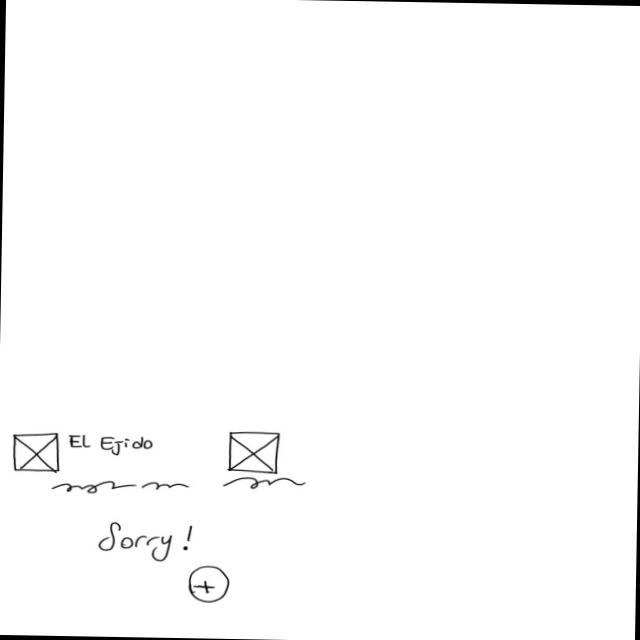icon-button: (187, 564, 230, 603)
image: (226, 430, 282, 473), (11, 430, 61, 473)
label: (96, 520, 194, 563), (68, 433, 153, 458)
text: (49, 478, 191, 498), (220, 475, 306, 491)
